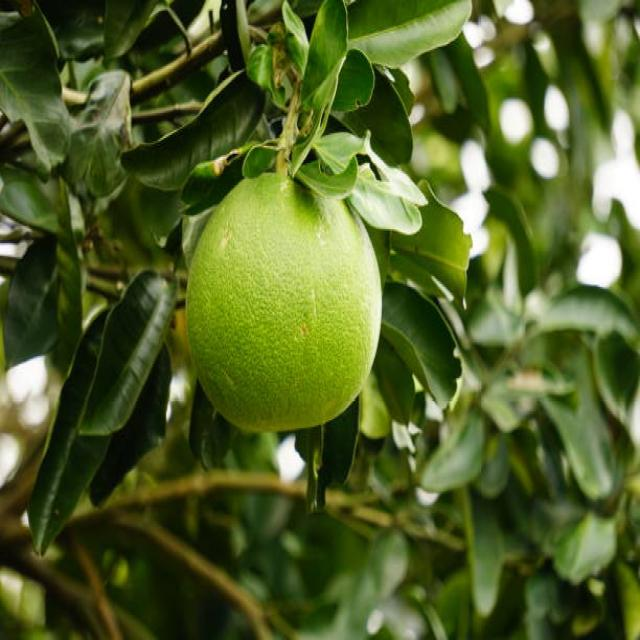Unripe: (182, 162, 380, 432)
